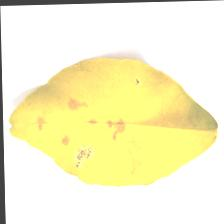black spot: (29, 94, 133, 146)
